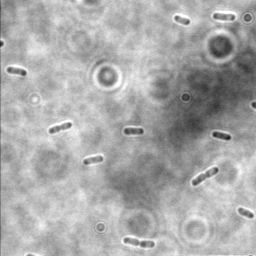Dividing: (190, 165, 219, 188), (122, 237, 156, 249), (47, 121, 73, 135)
Rod: (211, 11, 236, 23), (81, 154, 105, 166), (236, 205, 254, 220), (6, 66, 27, 78), (172, 15, 191, 27), (211, 131, 231, 142), (123, 127, 145, 136)
